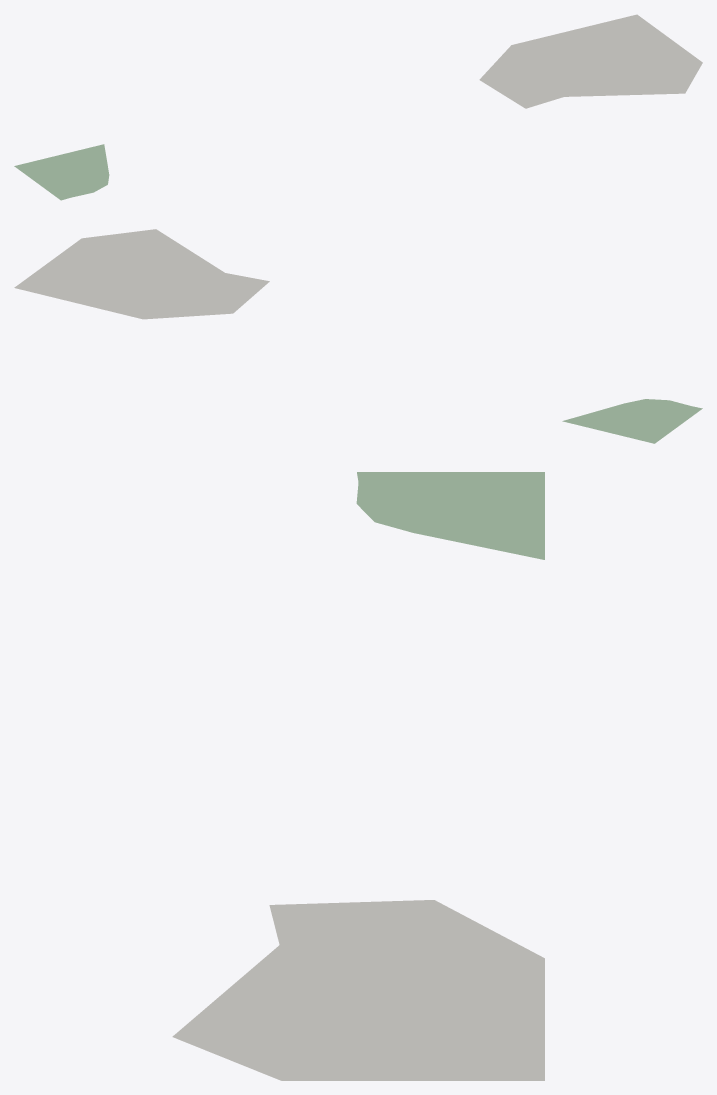
Rendered from 101_115_mid.glb.
The picture shows the model from 3 angles, top to bottom: view 1: azimuth 30°, elevation 25°; view 2: azimuth 150°, elevation 25°; view 3: azimuth 270°, elevation 25°; orthographic projection. The views are drawn at different scales.
Bounding box in the file's own units: 500 × 0.2724 × 129.
